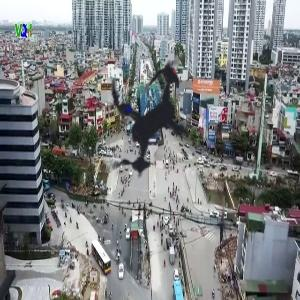drone: (40, 9, 265, 234)
